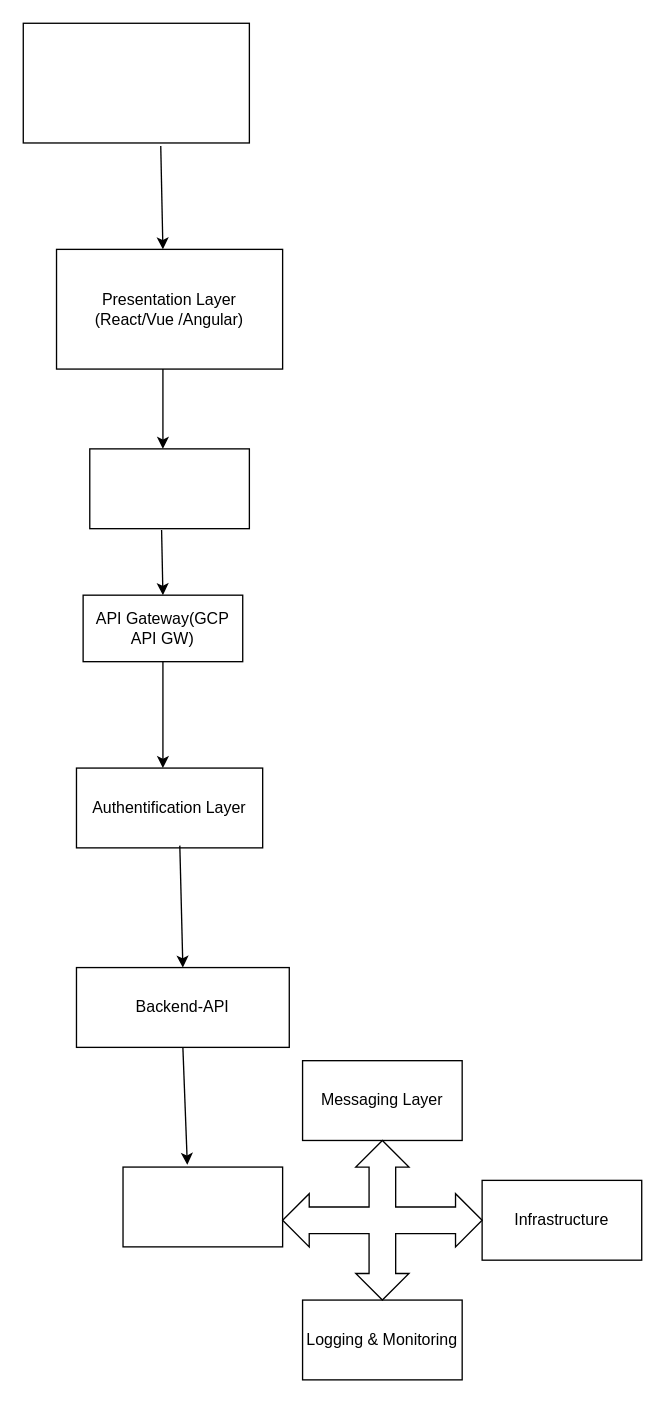
This 665x1403 diagram has some shape labels left out. The shapes that lost their labels are listed below. From the top down, each one's centre as x and y in pixels, then its label:
(x=135, y=82): Patient /Doctor Web Browser /Mobile
(x=168, y=488): Frontend Logic(SPA)
(x=202, y=1206): Database Layer
